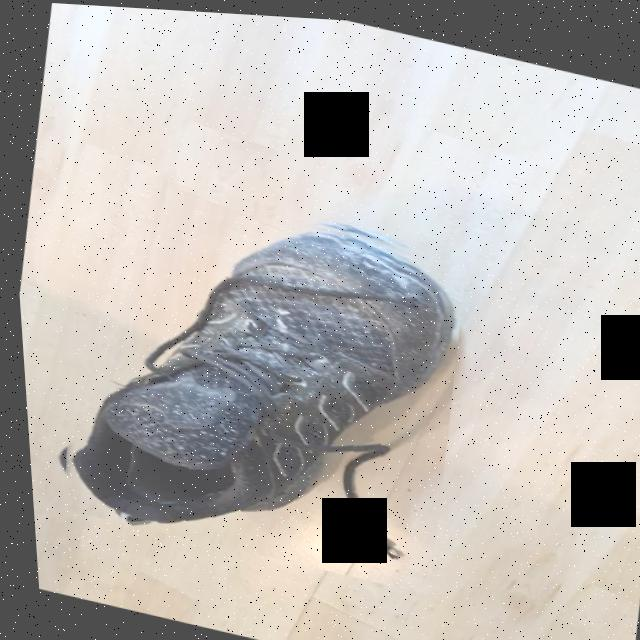shoe: (22, 157, 482, 592)
